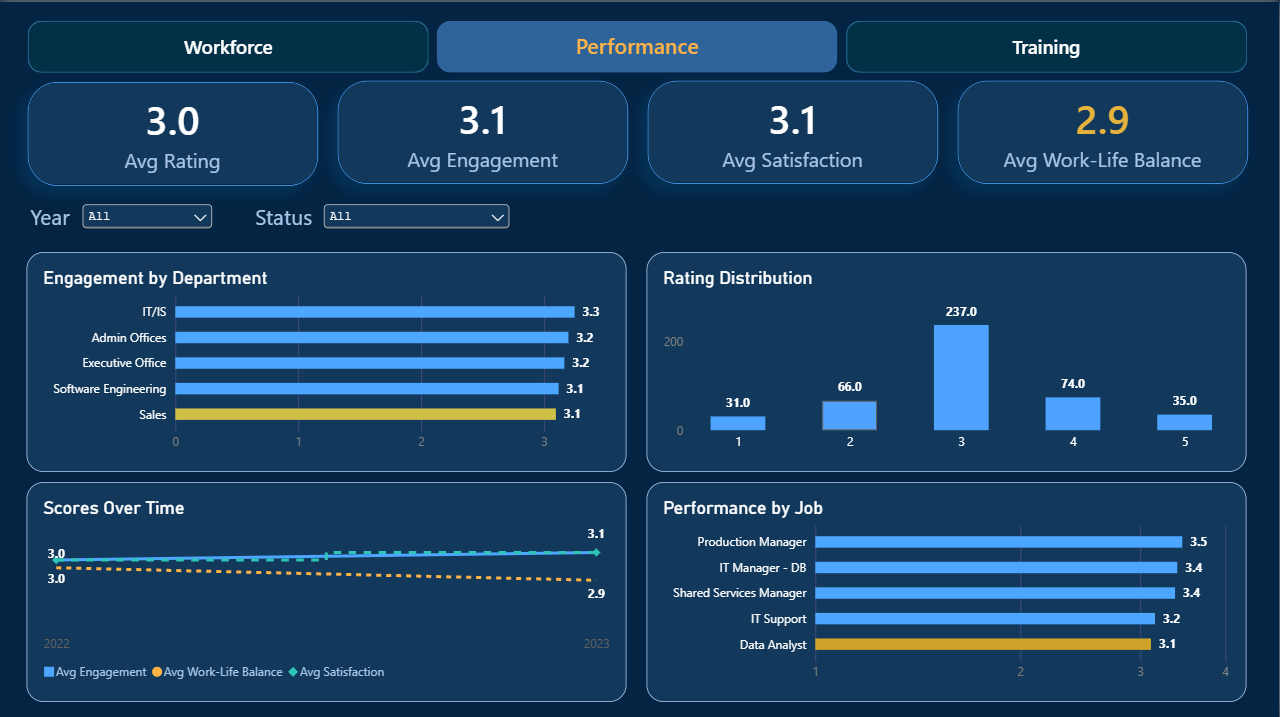

What the dashboard file says about the page in this screenshot:
{"tool":"powerbi","page":{"name":"Performance ","canvas":[1280,720],"ordinal":1},"visuals":[{"type":"pageNavigator","box":[28.6,18.6,1220,52.9],"z":0},{"type":"cardVisual","title":"Total employees","fields":{"Data":["DAX.Average Rating"]},"box":[28.6,79.5,290,103.8],"z":1000},{"type":"cardVisual","title":"Total employees","fields":{"Data":["DAX.Average Engagement"]},"box":[338.3,79.2,290,103],"z":2000},{"type":"cardVisual","title":"Total employees","fields":{"Data":["DAX.Average Satisfactio"]},"box":[648.2,79.1,290,103],"z":3000},{"type":"cardVisual","title":"Total employees","fields":{"Data":["DAX.Average Work Life Balance"]},"box":[958.3,79.2,290,103],"z":4000},{"type":"barChart","title":"Engagement by Department","fields":{"Category":["public departments.department_name"],"Y":["DAX.Average Engagement"]},"box":[28,250,600,220],"z":5000},{"type":"barChart","title":"Performance by Job","fields":{"Category":["public jobs.title"],"Y":["DAX.Avg Rating (5+ reviews)"]},"box":[648,480,600,220],"z":6000},{"type":"clusteredColumnChart","title":"Rating Distribution","fields":{"Category":["public performance_reviews.employee_rating"],"Y":["DAX.Review Count"]},"box":[648,250,600,220],"z":7000},{"type":"lineChart","title":"Scores Over Time","fields":{"Category":["Date.Year"],"Y":["DAX.Average Engagement","DAX.Average Work Life Balance","DAX.Average Satisfaction"]},"box":[28,480,600,220],"z":8000},{"type":"slicer","fields":{"Values":["Date.Year"]},"box":[78.8,198,140.4,38.8],"z":9000},{"type":"slicer","fields":{"Values":["public employees.employee_status"]},"box":[320,198,196.7,45],"z":10000},{"type":"textbox","box":[31.7,200,62.1,32.5],"z":11000},{"type":"textbox","box":[256.2,200,125.8,37.1],"z":12000}]}

Visuals, with their boxes in screenshot pixels (x1, y1, x2, y2), scaled from the page's 1280x720 canvas onto the 1280x717 screenshot:
pageNavigator: [x1=29, y1=19, x2=1249, y2=71]
"Total employees" cardVisual: [x1=29, y1=79, x2=319, y2=183]
"Total employees" cardVisual: [x1=338, y1=79, x2=628, y2=181]
"Total employees" cardVisual: [x1=648, y1=79, x2=938, y2=181]
"Total employees" cardVisual: [x1=958, y1=79, x2=1248, y2=181]
"Engagement by Department" barChart: [x1=28, y1=249, x2=628, y2=468]
"Performance by Job" barChart: [x1=648, y1=478, x2=1248, y2=697]
"Rating Distribution" clusteredColumnChart: [x1=648, y1=249, x2=1248, y2=468]
"Scores Over Time" lineChart: [x1=28, y1=478, x2=628, y2=697]
slicer - Date.Year: [x1=79, y1=197, x2=219, y2=236]
slicer - public employees.employee_status: [x1=320, y1=197, x2=517, y2=242]
textbox: [x1=32, y1=199, x2=94, y2=232]
textbox: [x1=256, y1=199, x2=382, y2=236]
